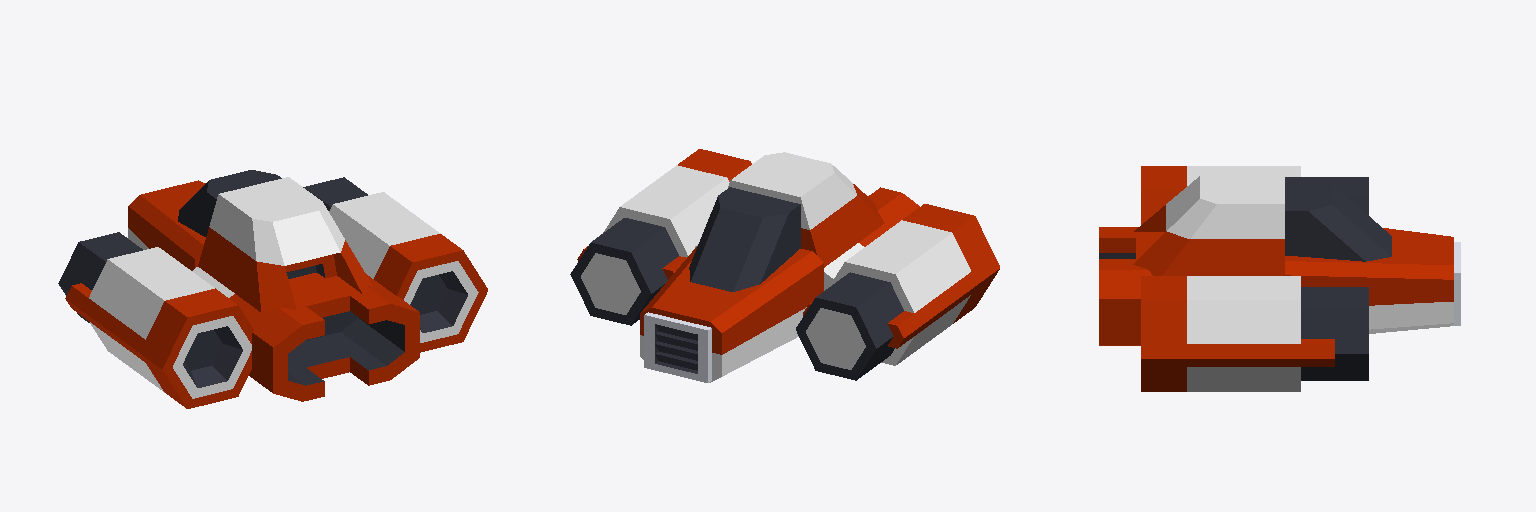
File: Flit.obj
The picture shows the model from 3 angles: view 1: azimuth 30°, elevation 25°; view 2: azimuth 150°, elevation 25°; view 3: azimuth 270°, elevation 25°; orthographic projection.
Parts seen in each view (by area): view 1: mergedBlocks; view 2: mergedBlocks; view 3: mergedBlocks.
Part boxes in pixels (left/top/right/bottom): mergedBlocks: left=58, top=170, right=487, bottom=408; mergedBlocks: left=570, top=149, right=999, bottom=382; mergedBlocks: left=1099, top=166, right=1460, bottom=391.
Bounding box in the file's own units: 2.23 × 0.9 × 2.14.